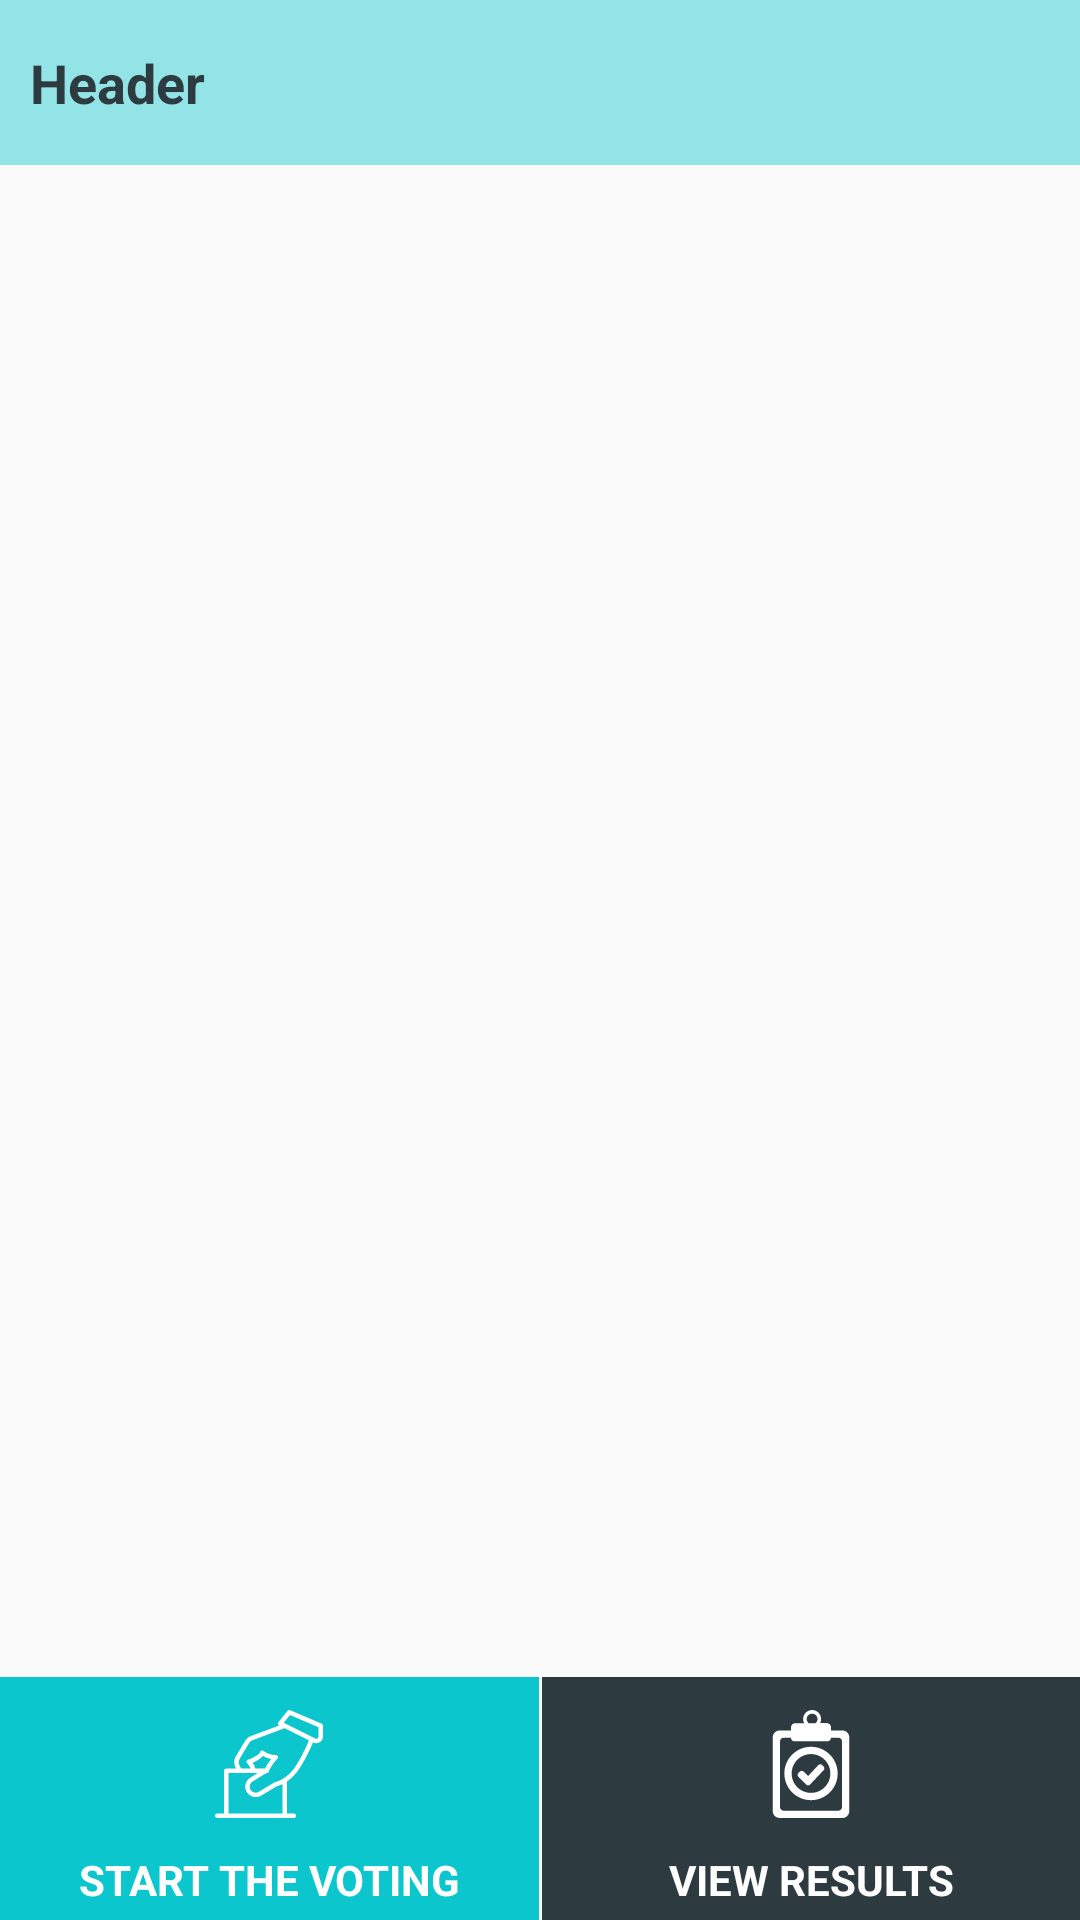

Point at icon controls on the screen. Image size 1080x1920, points as [x,y].
vote: [269,1764]
